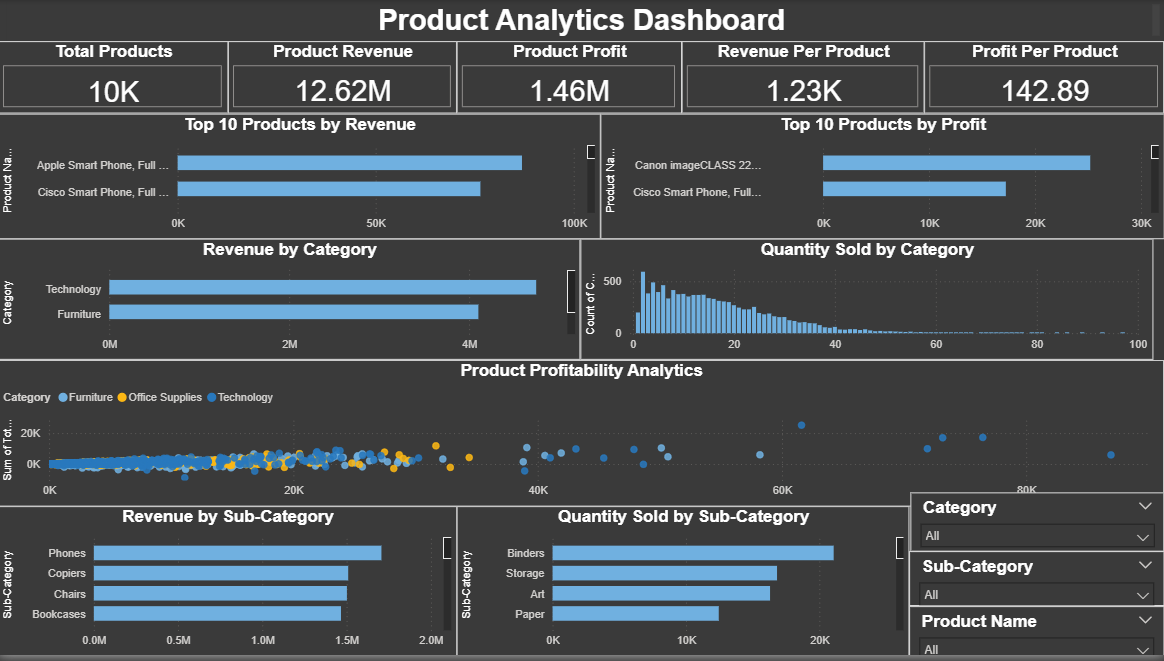

The page's visual inventory and layout, read from the dashboard file:
{"tool":"powerbi","page":{"name":"Product Analysis","canvas":[1280,720],"ordinal":2},"visuals":[{"type":"textbox","box":[9.6,0,1270.7,45.3],"z":0},{"type":"cardVisual","title":"Total Products","fields":{"Data":["vw_product_summary.Total Products"]},"box":[0,45,252.5,79.6],"z":1000},{"type":"cardVisual","title":"Product Revenue","fields":{"Data":["vw_product_summary.Product Revenue"]},"box":[252.5,45.3,251.1,79.6],"z":2000},{"type":"cardVisual","title":"Profit Per Product","fields":{"Data":["vw_product_summary.Profit Per Product"]},"box":[1016.8,45.3,263.5,79.6],"z":3000},{"type":"cardVisual","title":"Revenue Per Product","fields":{"Data":["vw_product_summary.Revenue Per Product"]},"box":[750.6,45.3,266.2,79.6],"z":4000},{"type":"cardVisual","title":"Product Profit","fields":{"Data":["vw_product_summary.Product Profit"]},"box":[503.6,45.3,247,79.6],"z":5000},{"type":"clusteredBarChart","title":"Top 10 Products by Revenue","fields":{"Category":["vw_product_summary.Product Name"],"Y":["Sum(vw_product_summary.Total_Sales)"]},"box":[0,124.9,655.9,137.2],"z":6000},{"type":"clusteredBarChart","title":"Top 10 Products by Profit","fields":{"Category":["vw_product_summary.Product Name"],"Y":["vw_product_summary.Product Profit"]},"box":[661.4,124.9,618.9,137.2],"z":7000},{"type":"clusteredBarChart","title":"Revenue by Category","fields":{"Category":["vw_product_summary.Category"],"Y":["Sum(vw_product_summary.Total_Sales)"]},"box":[0,262.1,627.1,133.1],"z":8000},{"type":"clusteredColumnChart","title":"Quantity Sold by Category","fields":{"Y":["CountNonNull(vw_product_summary.Category)"],"Category":["vw_product_summary.Quantity_Sold"]},"box":[627.1,262.1,640.8,133.1],"z":9000},{"type":"clusteredBarChart","title":"Revenue by Sub-Category","fields":{"Category":["vw_product_summary.Sub-Category"],"Y":["Sum(vw_product_summary.Total_Sales)"]},"box":[0,572.2,503.6,148.2],"z":10000},{"type":"clusteredBarChart","title":"Quantity Sold by Sub-Category","fields":{"Category":["vw_product_summary.Sub-Category"],"Y":["Sum(vw_product_summary.Quantity_Sold)"]},"box":[503.6,572.2,496.7,148.2],"z":11000},{"type":"scatterChart","title":"Product Profitability Analytics","fields":{"X":["Sum(vw_product_summary.Total_Sales)"],"Y":["Sum(vw_product_summary.Total_Profit)"],"Series":["vw_product_summary.Category"],"Category":["vw_product_summary.Product Name"]},"box":[0,395.2,1280.3,160.5],"z":12000},{"type":"slicer","fields":{"Values":["vw_product_summary.Category"]},"box":[1001.7,540.7,278.6,64.5],"z":13000},{"type":"slicer","fields":{"Values":["vw_product_summary.Sub-Category"]},"box":[1000.3,605.1,279.9,60.4],"z":14000},{"type":"slicer","fields":{"Values":["vw_product_summary.Product Name"]},"box":[1000.3,665.5,279.9,54.9],"z":15000}]}

Visuals, with their boxes in screenshot pixels (x1, y1, x2, y2), scaled from the page's 1280x720 canvas onto the 1164x661 screenshot:
textbox: (9,0,1163,42)
"Total Products" cardVisual: (0,41,230,114)
"Product Revenue" cardVisual: (230,42,458,115)
"Profit Per Product" cardVisual: (925,42,1163,115)
"Revenue Per Product" cardVisual: (683,42,925,115)
"Product Profit" cardVisual: (458,42,683,115)
"Top 10 Products by Revenue" clusteredBarChart: (0,115,596,241)
"Top 10 Products by Profit" clusteredBarChart: (601,115,1163,241)
"Revenue by Category" clusteredBarChart: (0,241,570,363)
"Quantity Sold by Category" clusteredColumnChart: (570,241,1153,363)
"Revenue by Sub-Category" clusteredBarChart: (0,525,458,660)
"Quantity Sold by Sub-Category" clusteredBarChart: (458,525,910,660)
"Product Profitability Analytics" scatterChart: (0,363,1163,510)
slicer - vw_product_summary.Category: (911,496,1163,556)
slicer - vw_product_summary.Sub-Category: (910,556,1163,611)
slicer - vw_product_summary.Product Name: (910,611,1163,660)
